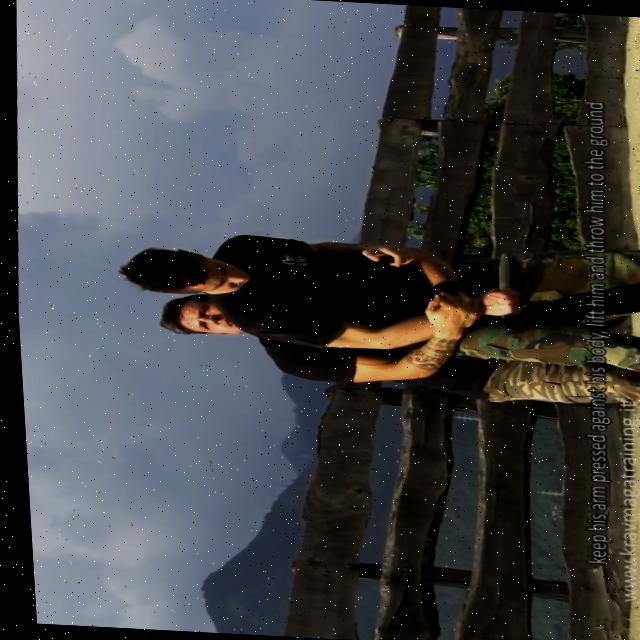knife: (490, 251, 514, 290)
